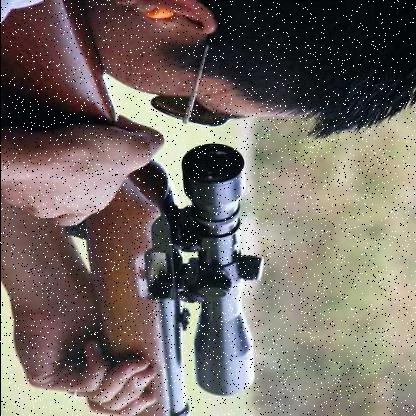rifle: (1, 0, 293, 410)
